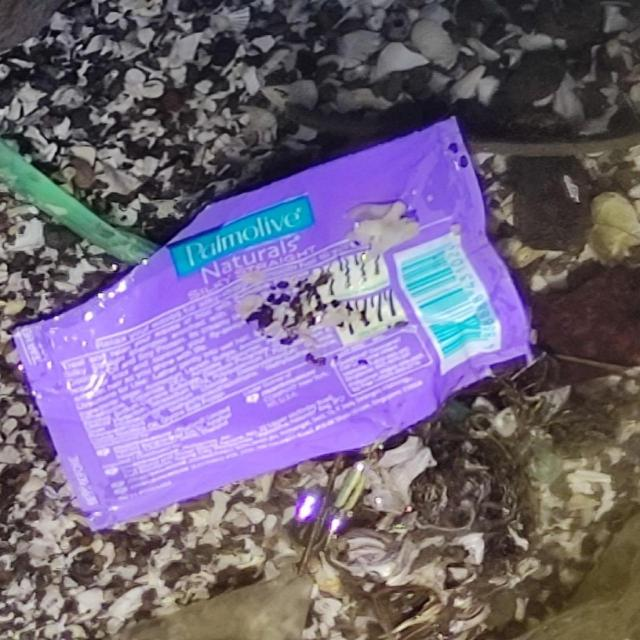plastic_waste: (11, 116, 541, 535)
